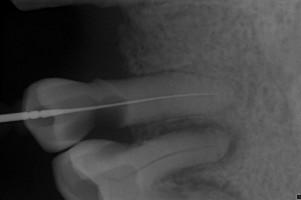Dental Caries: (133, 114, 246, 200)
